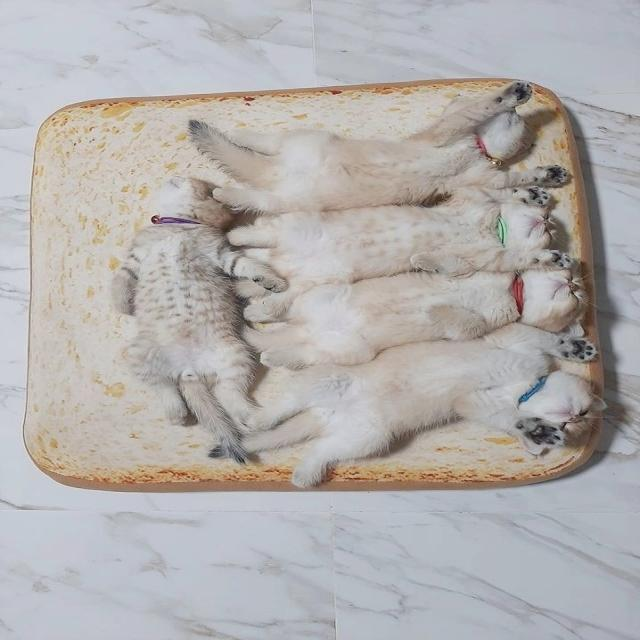da khoe manh: (285, 142, 496, 218), (304, 354, 552, 412), (292, 295, 494, 361), (288, 202, 488, 268), (145, 244, 225, 373)
